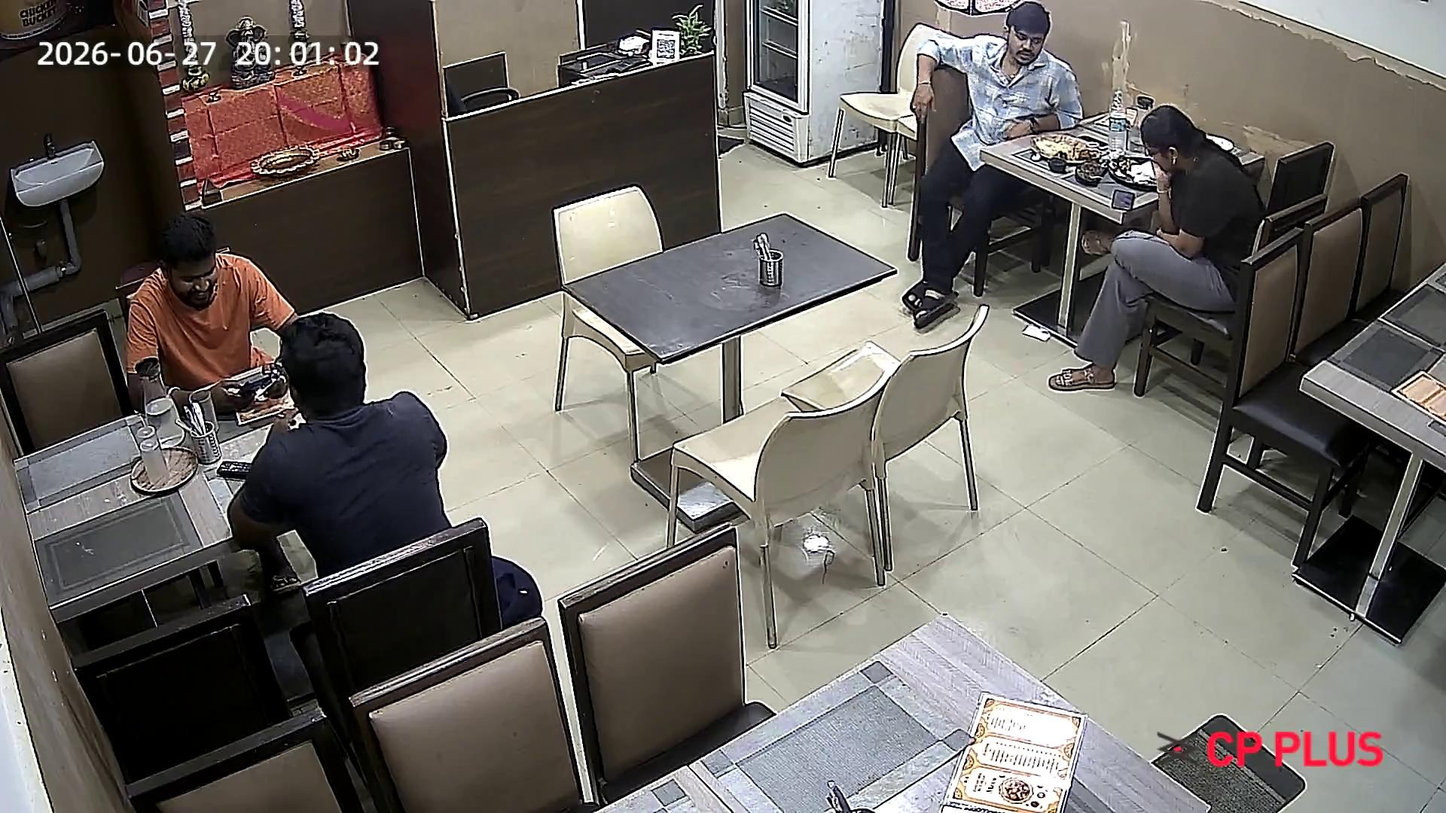clean: (593, 607, 1213, 813), (559, 209, 900, 364)
occupied: (2, 210, 434, 625), (926, 61, 1285, 239)
